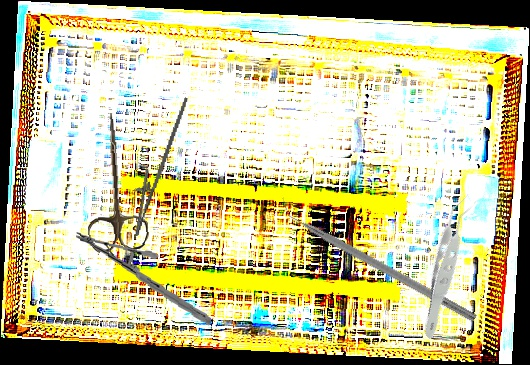Chopper: (274, 194, 483, 323)
Iris Scissors: (78, 110, 150, 254)
Needle Holder: (70, 230, 217, 326), (123, 90, 189, 241)
Tissue Forceps: (375, 192, 523, 341)
